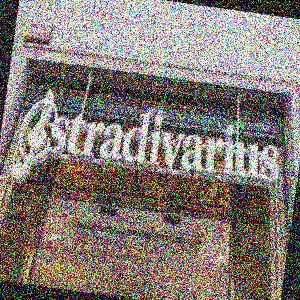stradivarius: (282, 42, 295, 126)
